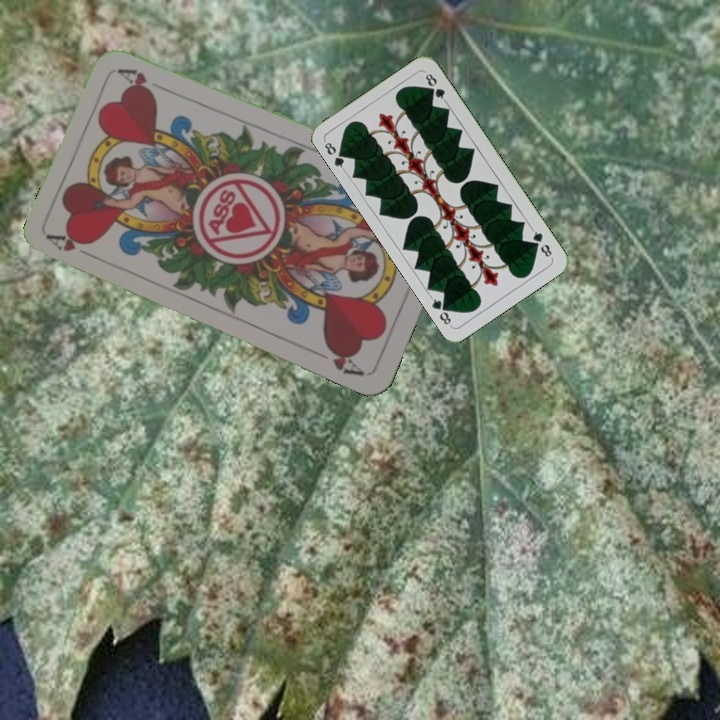G8: (320, 137, 350, 173), (527, 225, 555, 261)
HA: (45, 230, 102, 263)
